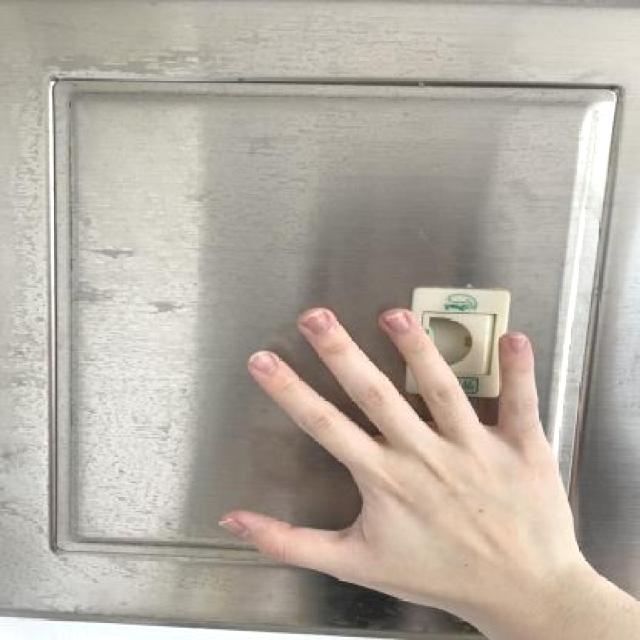no_glove: (212, 296, 600, 636)
